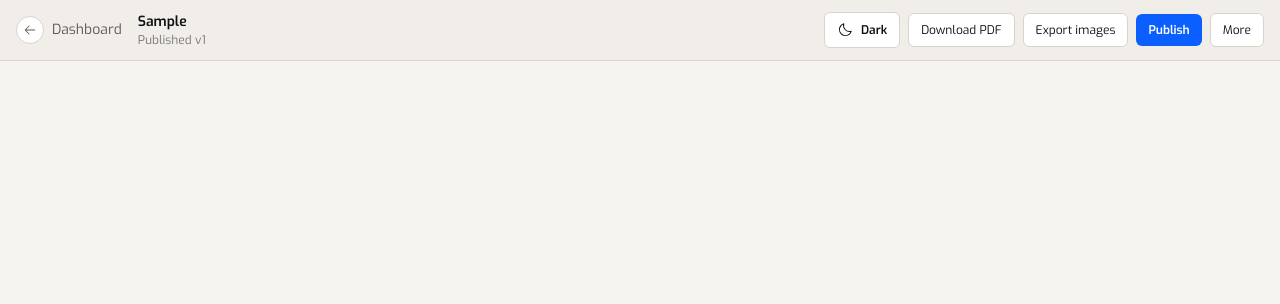
EditorToolbar › shows auto-render off state in menu
This screenshot has width=1280, height=304.
What coordinates should you click on to do the following:
click the button with test id "editor-more-menu"
I would click on:
 (1237, 30)
Its box is x1=1210 y1=13 x2=1264 y2=47.
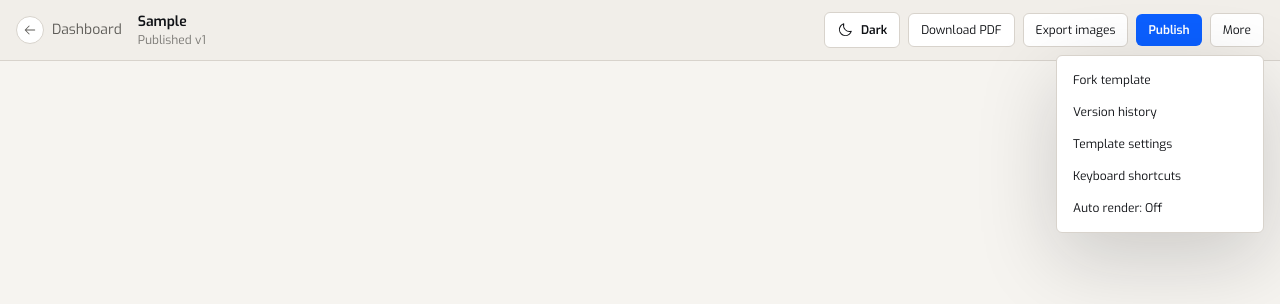
Expected: the button "Auto render: Off" is shown, x1=1065 y1=192 x2=1255 y2=224
